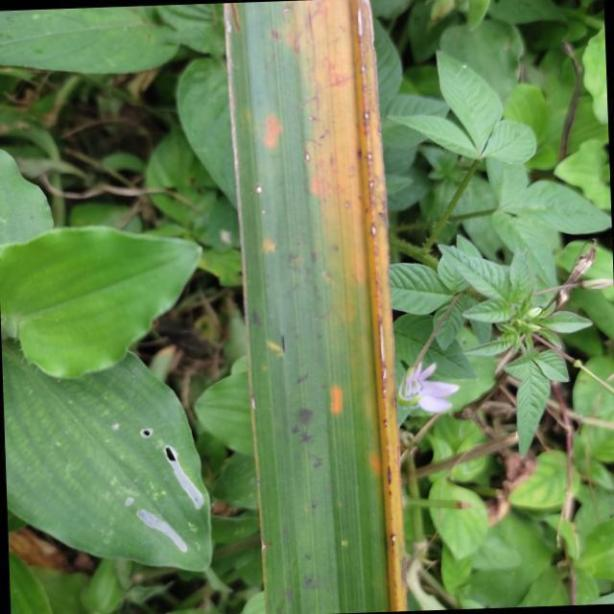Megnesium: (224, 3, 408, 614)
